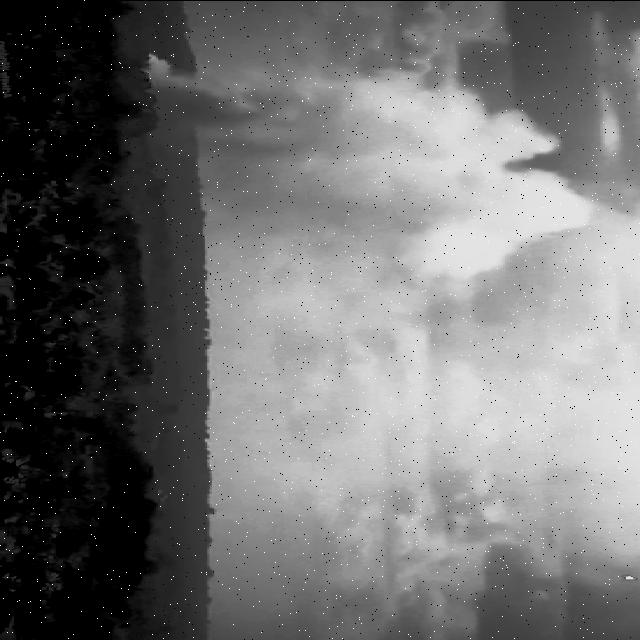asap: (134, 44, 606, 340)
